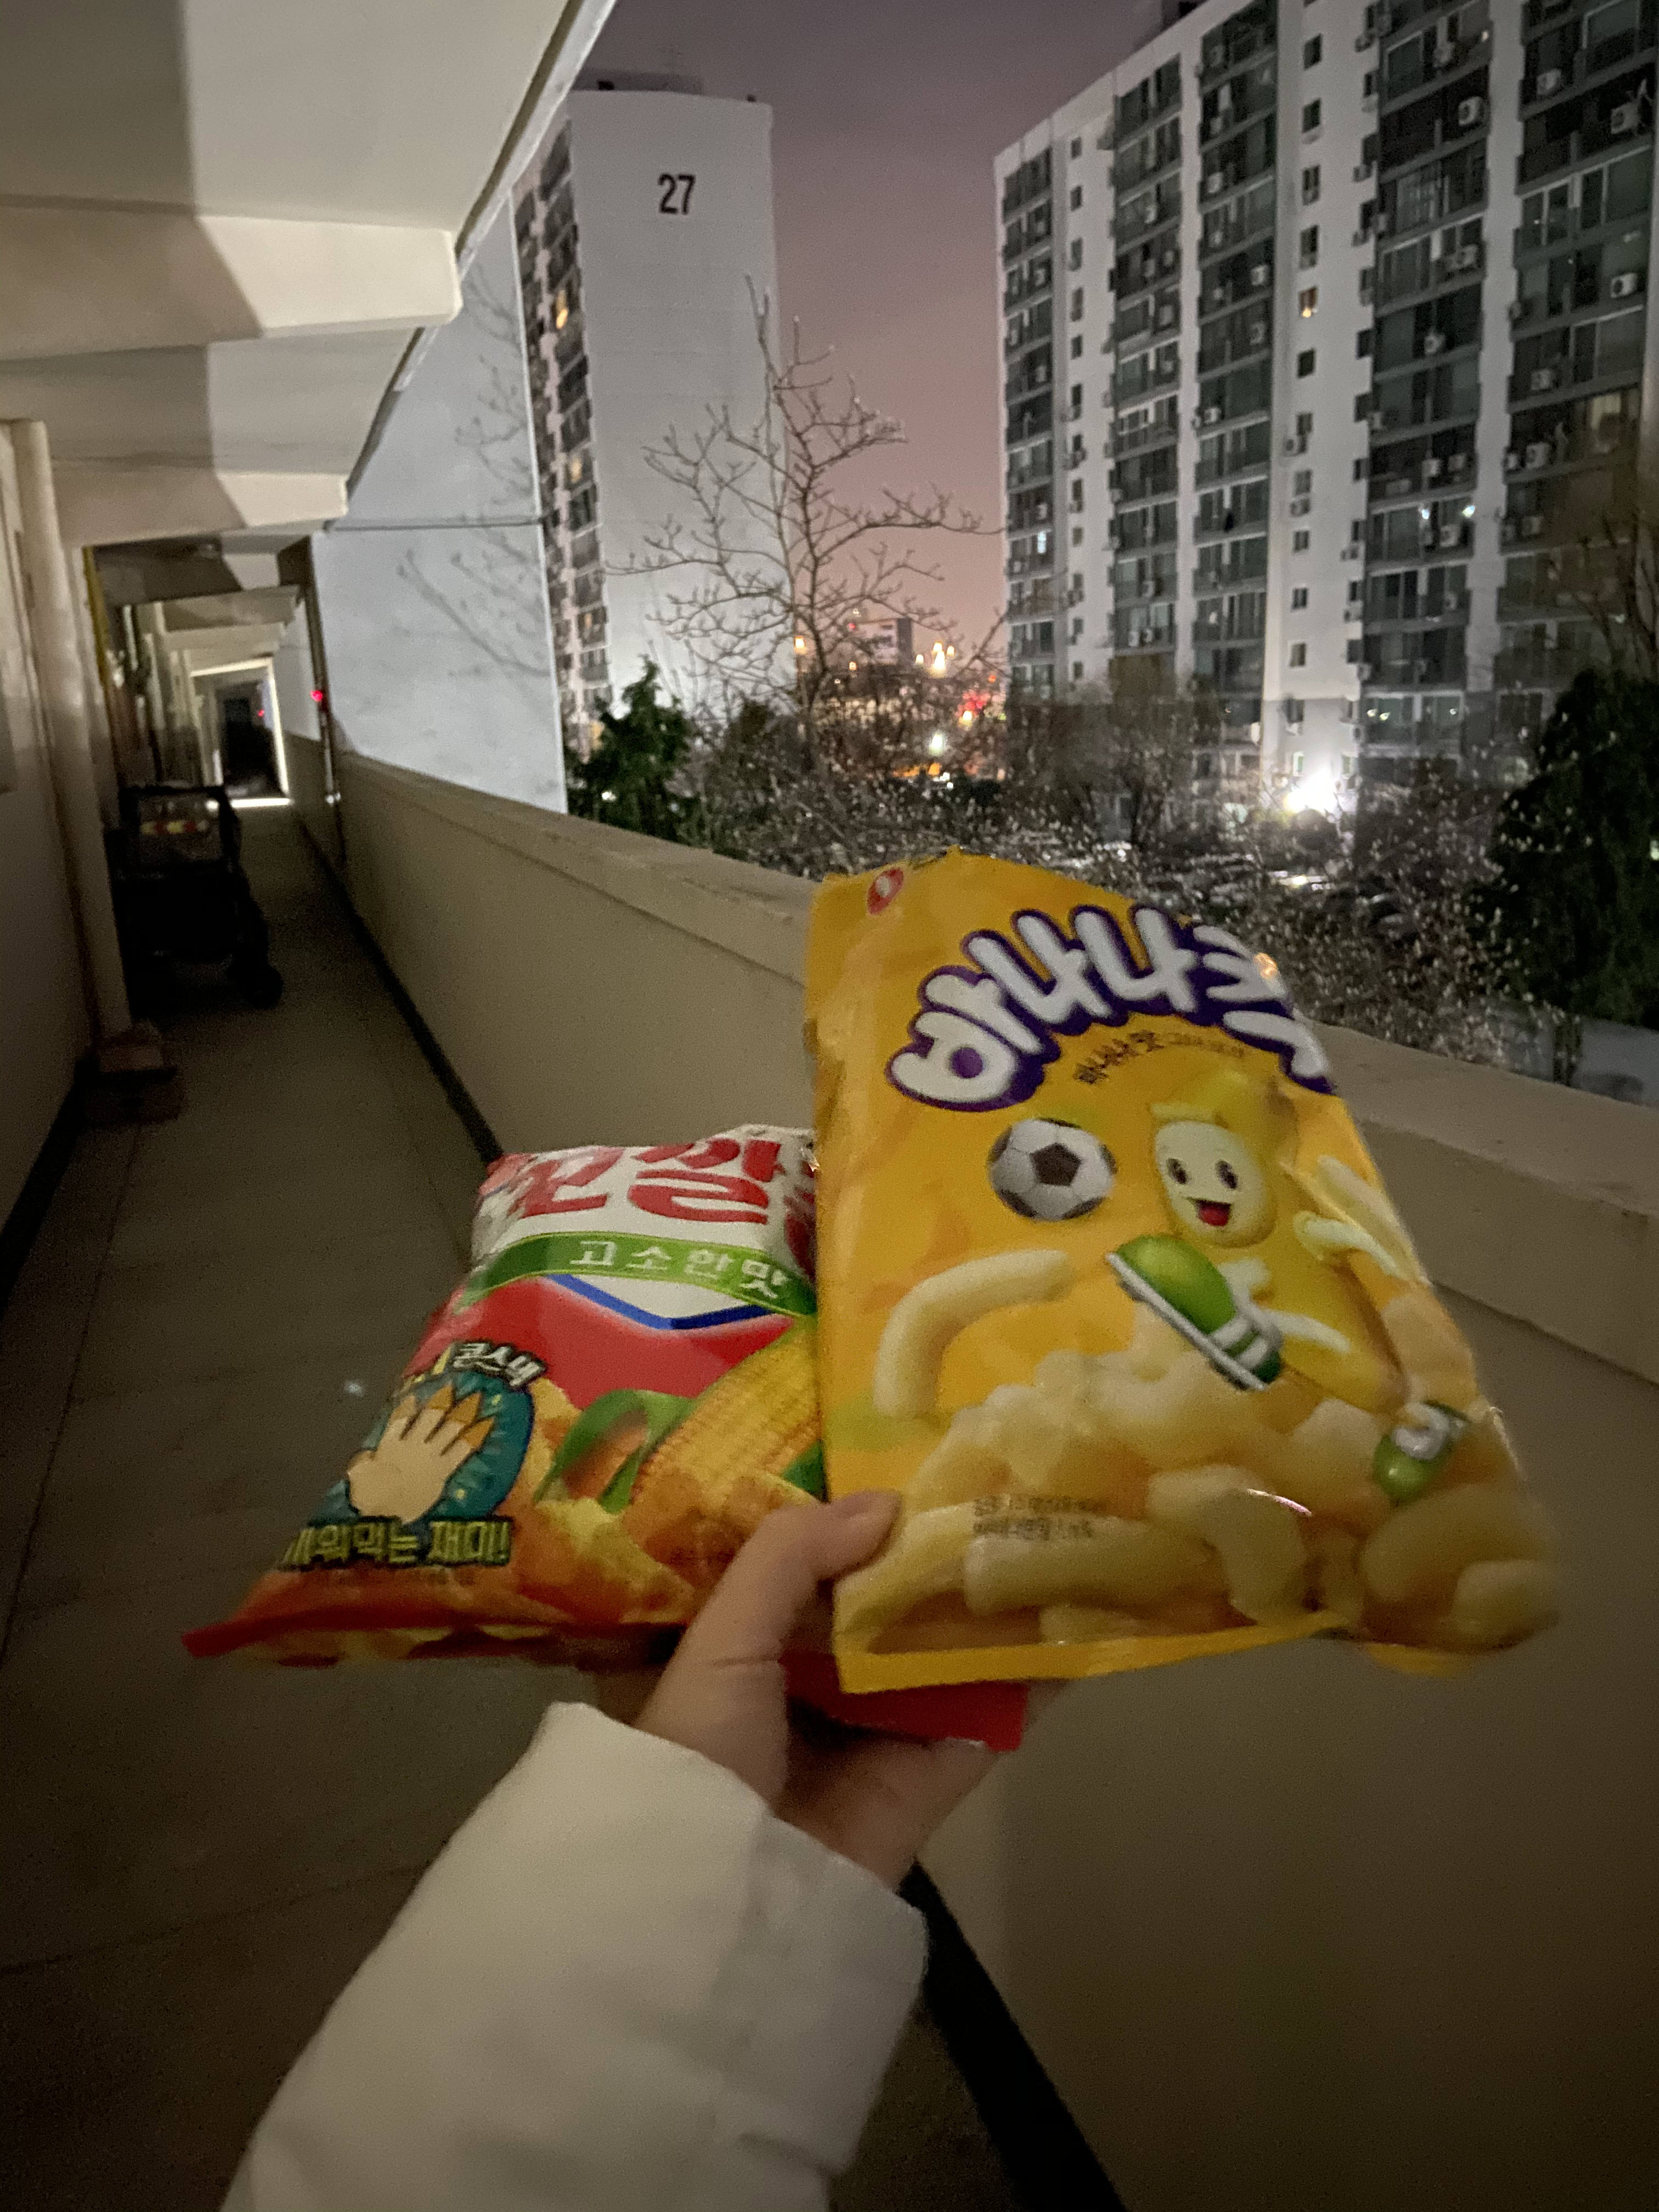banana: (786, 848, 1581, 1710)
ggoggalcon: (164, 1111, 1054, 1770)
